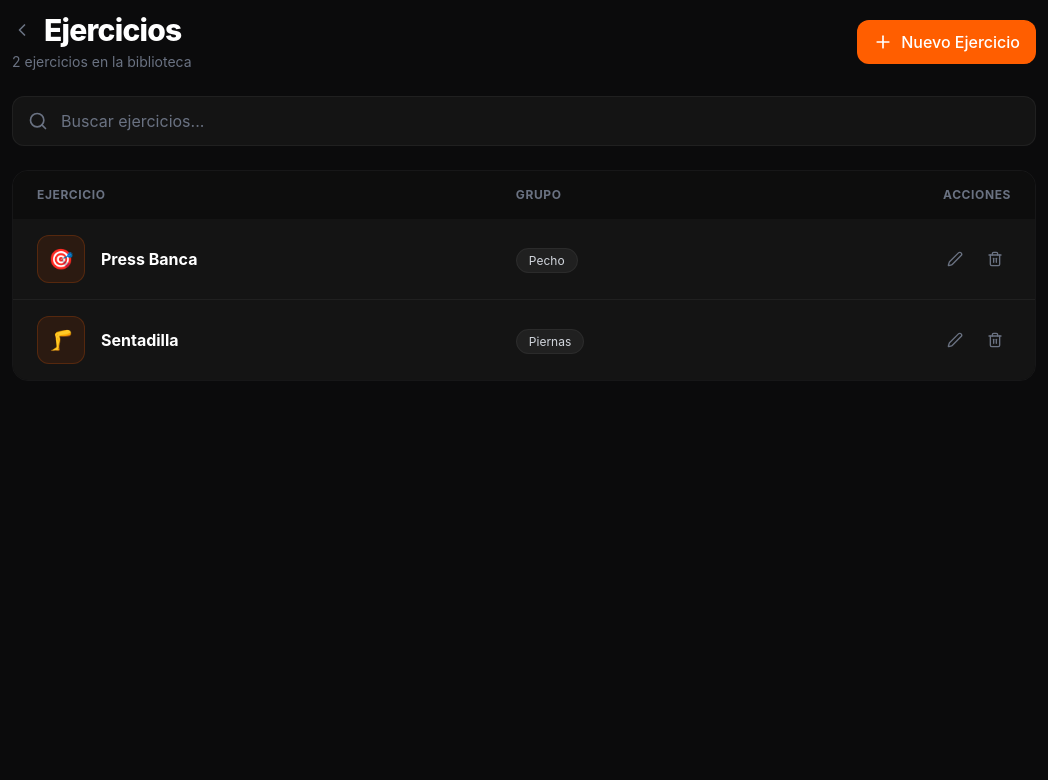
Scenario: AdminEjerciciosPage — catálogo sin nivel/tipo_lugar (R2/R3) › la búsqueda ya no filtra por nivel: buscar "intermedio" no oculta ejercicios
The image size is (1048, 780).
Expected: the text "Press Banca" is shown, [101,245,197,273]
Type "intermedio" into the field with placeholder "Buscar ejercicios..." at coordinates (524, 121), box [12,96,1036,146]
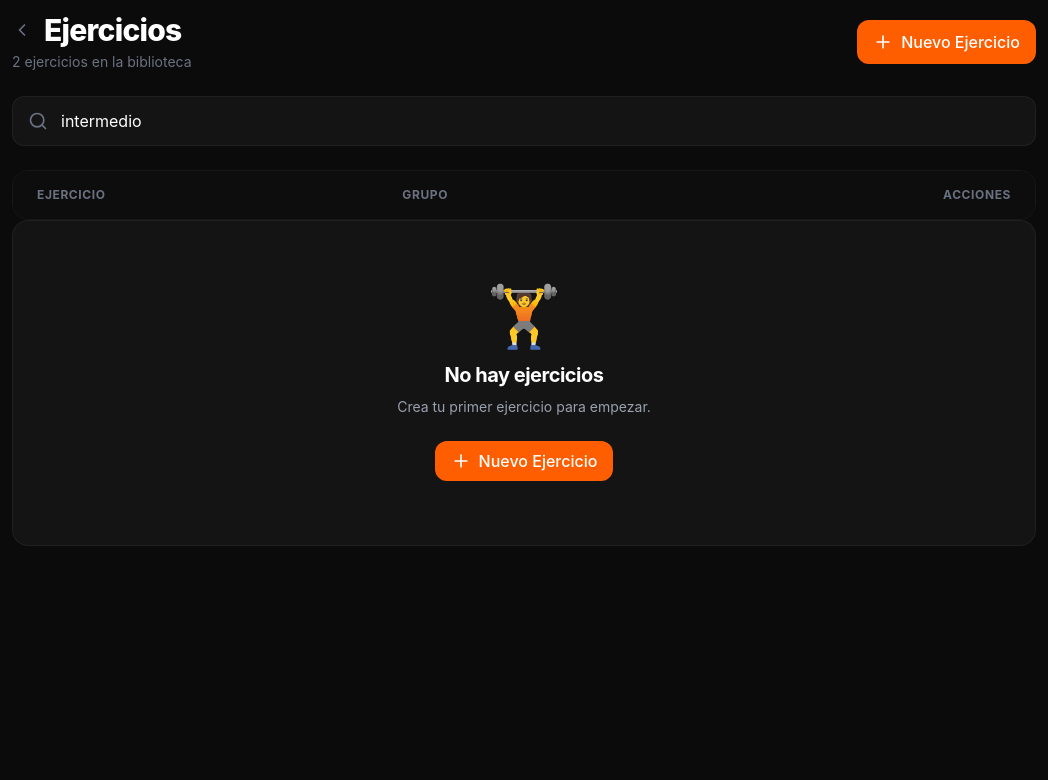
Expected: the text "Press Banca" is not shown
Expected: the text "Sentadilla" is not shown
Expected: the heading "No hay ejercicios" is shown, [444,363,604,387]
